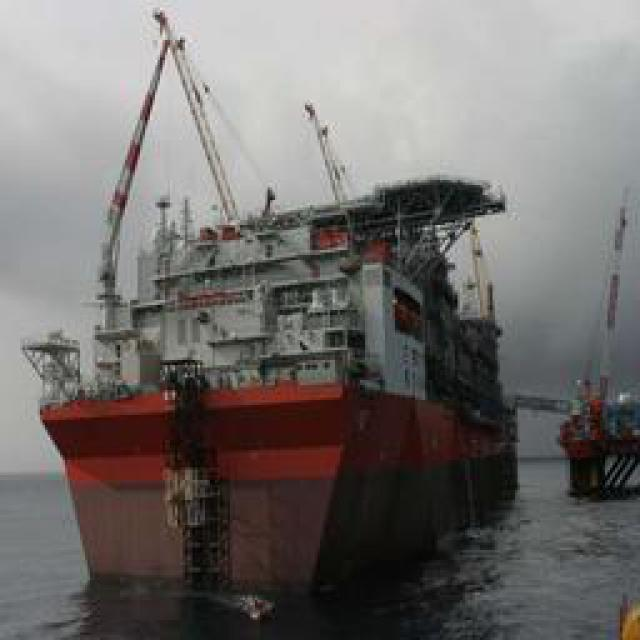Ship: (43, 7, 518, 597)
